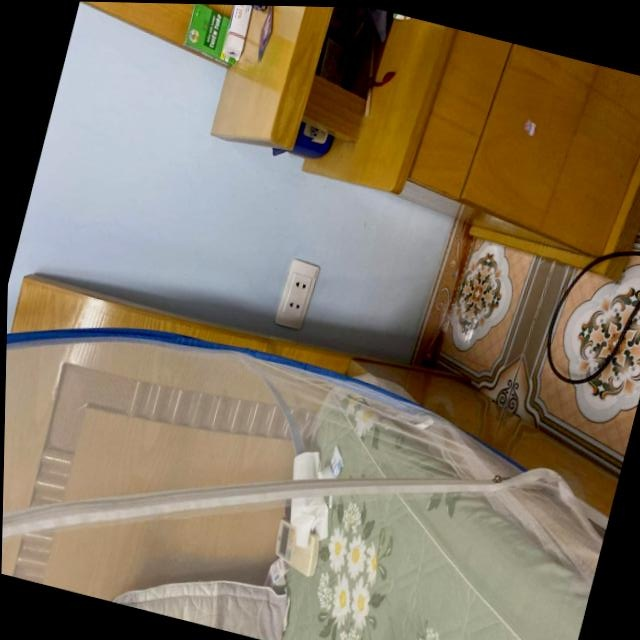outlet: (272, 258, 321, 333)
